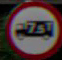Heavy Vehicles: (4, 1, 56, 51)
